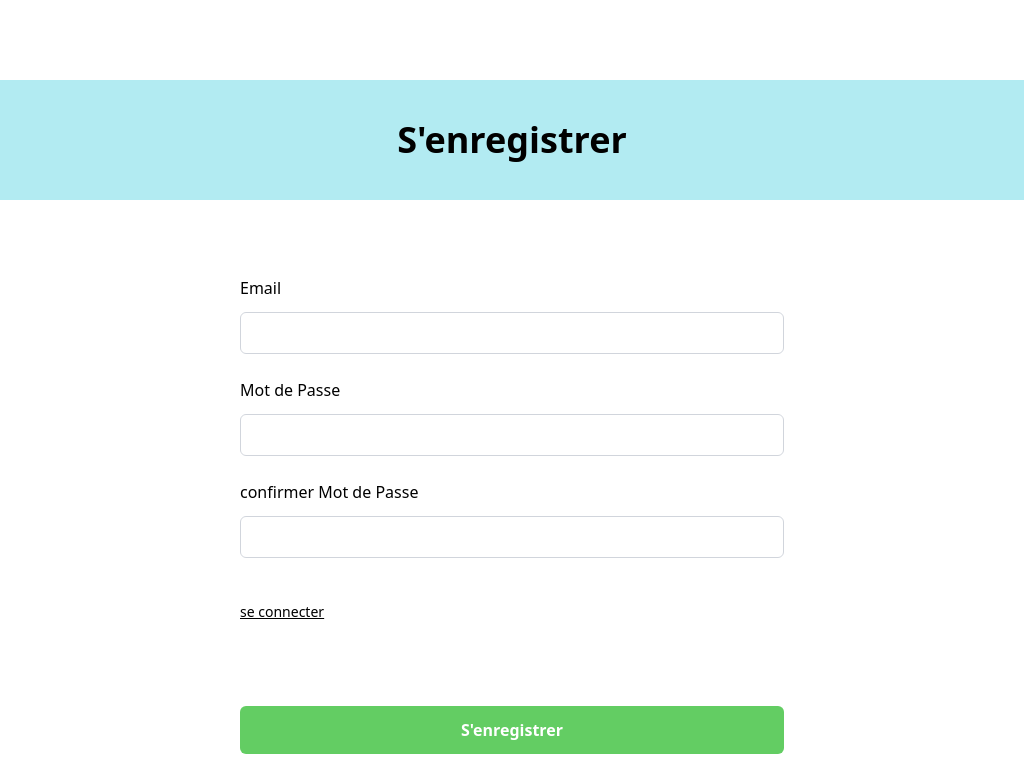
Test: should redirect to home › should reject email format
The width and height of the screenshot is (1024, 768).
Type "mail" into the field named "email".
click(512, 333); type("mail")  # box [240,312,784,354]
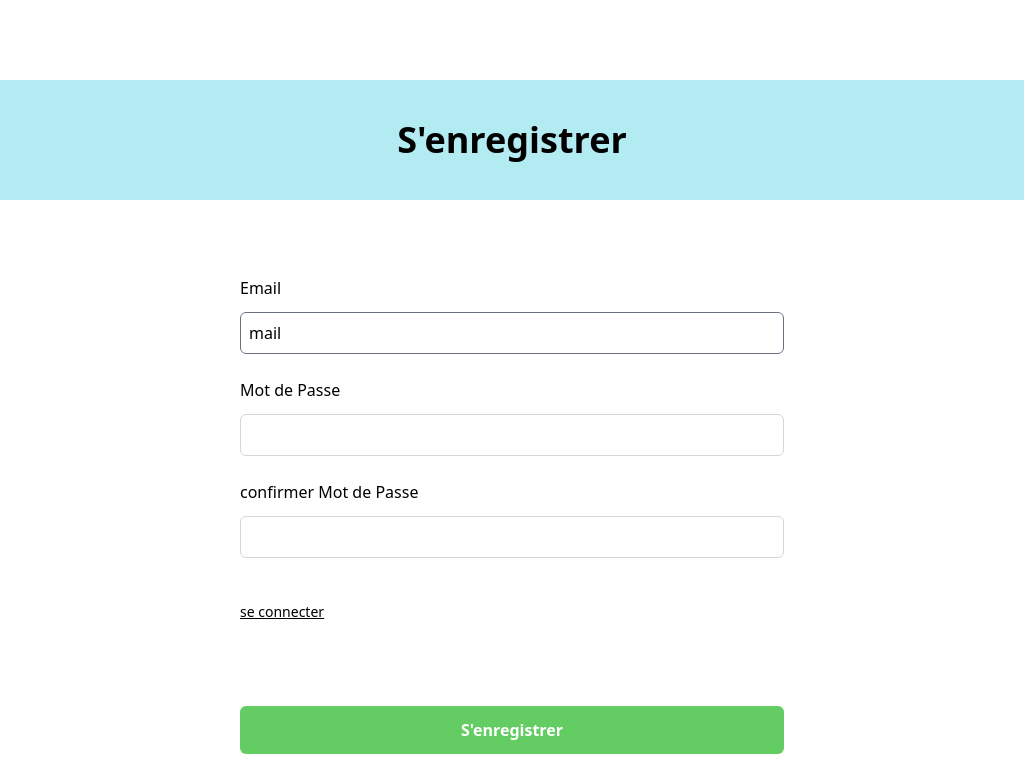
Click the submit button.
click(512, 730)  # box [240,706,784,754]
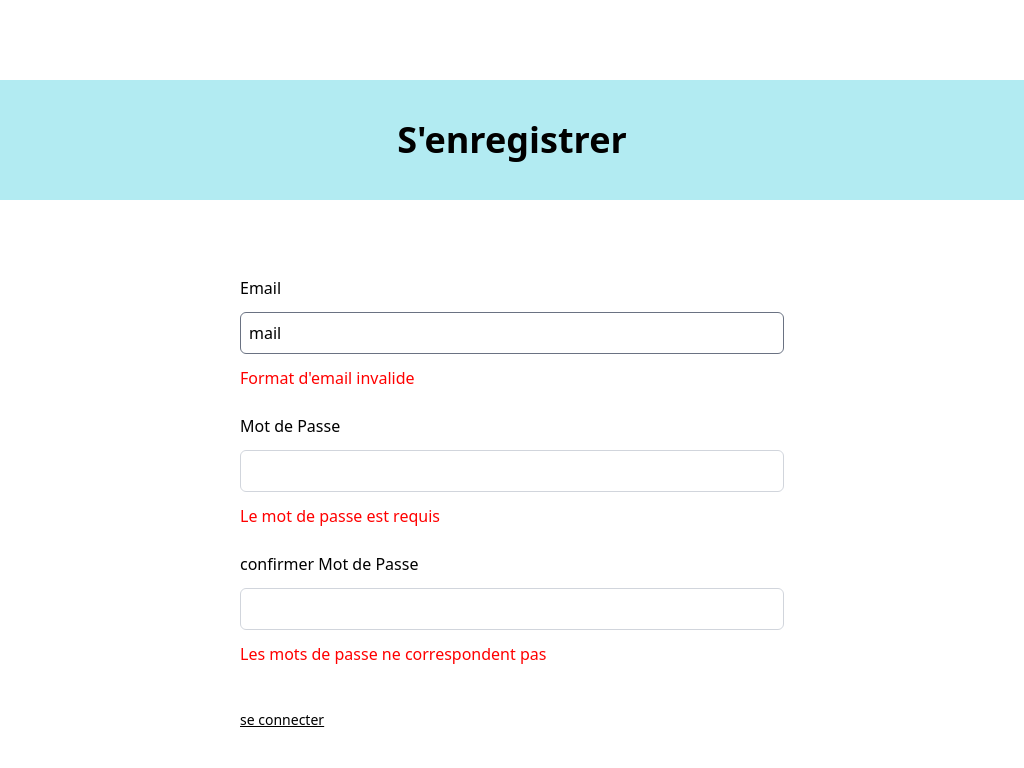
Now the text "Format d'email invalide" is shown, box [240,367,415,389]
